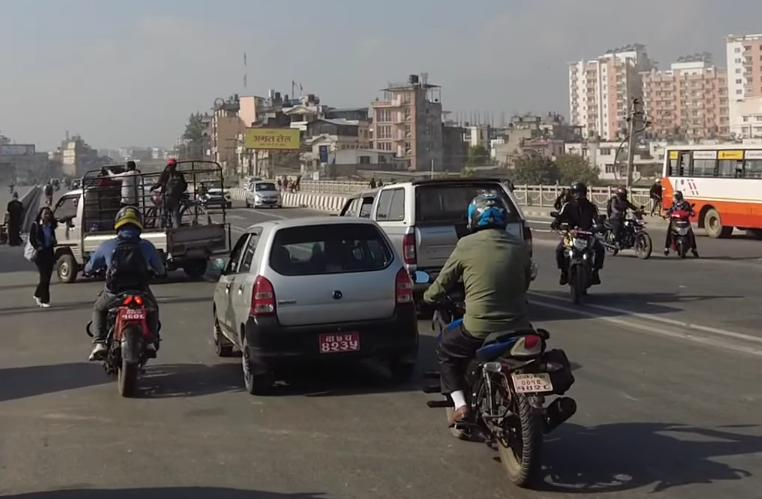bike: (405, 256, 580, 491), (71, 243, 167, 401), (547, 211, 614, 311)
